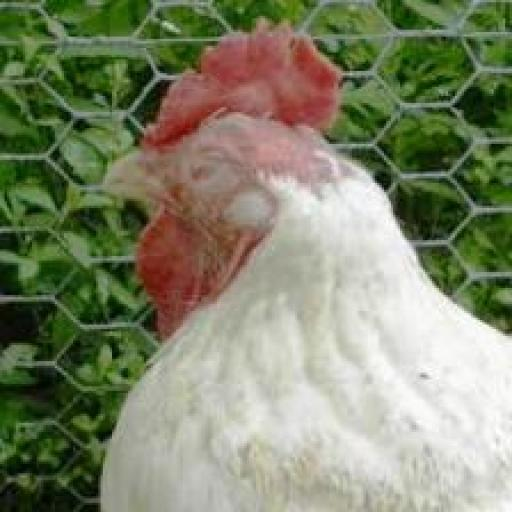disease: (160, 136, 242, 206)
